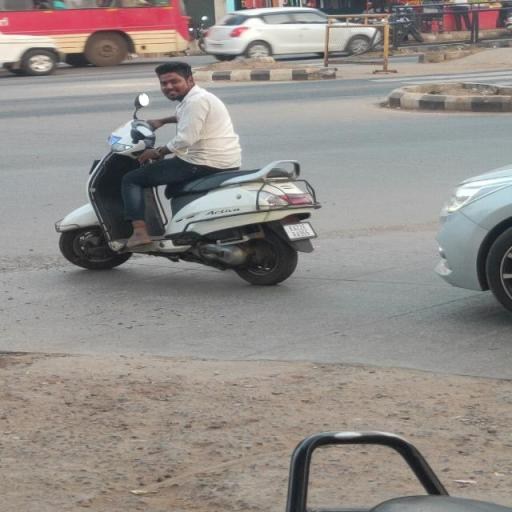bike: (54, 58, 328, 292)
numberplate: (284, 218, 314, 242)
withouthelmet: (157, 63, 193, 98)
